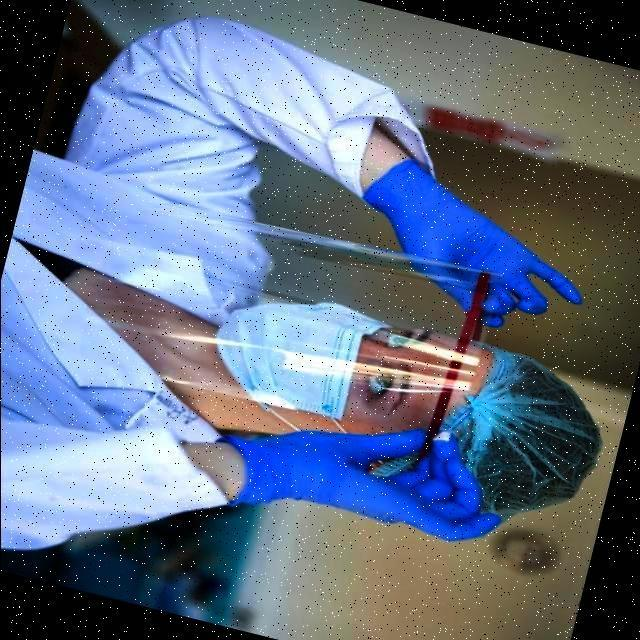apron: (212, 418, 506, 544), (355, 179, 595, 328)
